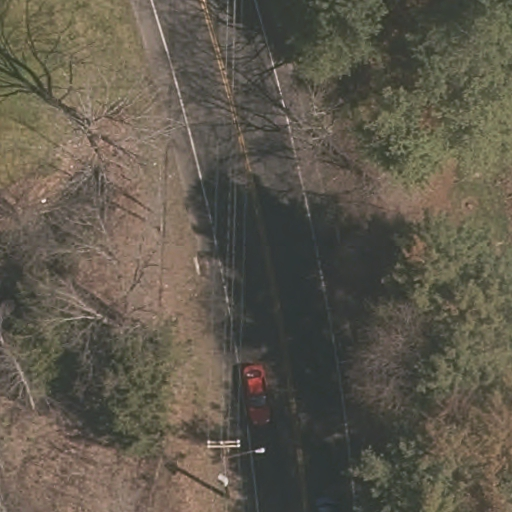DT: (196, 430, 272, 500)
